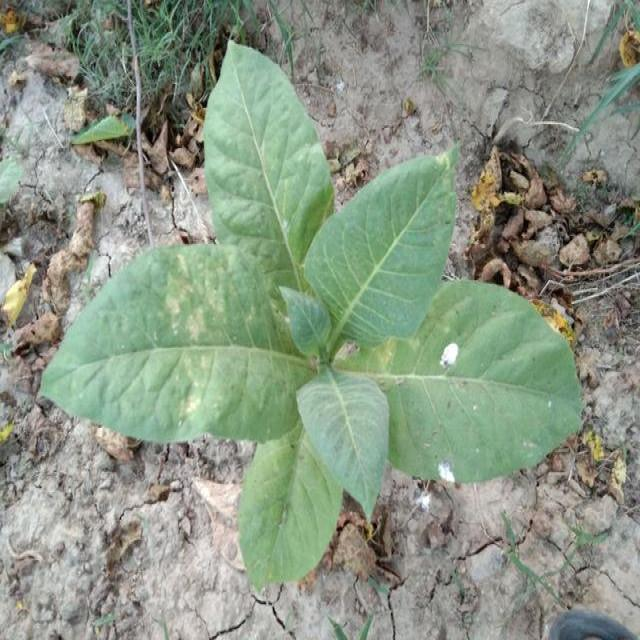crop: (39, 40, 590, 587)
